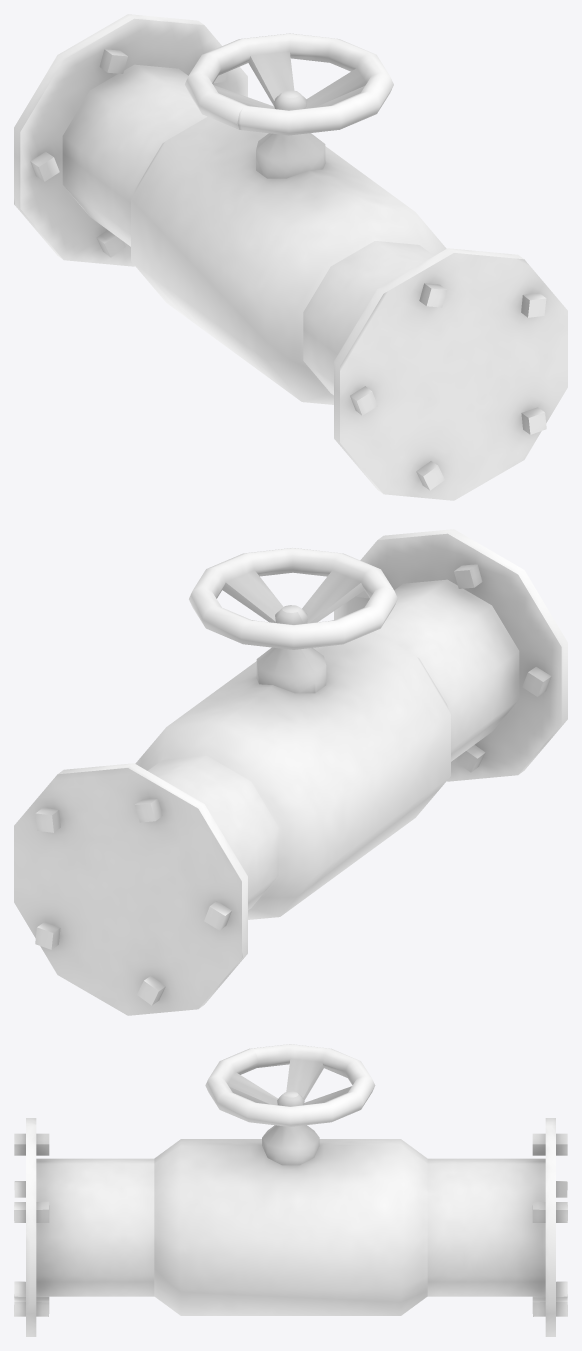
The model's file is PipeValve.glb.
3 renders of one model, top to bottom at view 1: azimuth 30°, elevation 25°; view 2: azimuth 150°, elevation 25°; view 3: azimuth 270°, elevation 25°, orthographic. The views are drawn at different scales.
Visible parts, largest first — view 1: PipeValve; view 2: PipeValve; view 3: PipeValve.
Boxes of the visible parts, x1,y1,x2,y2 form: PipeValve: [14, 14, 567, 500]; PipeValve: [14, 529, 567, 1015]; PipeValve: [14, 1044, 567, 1336].
Bounding box in the file's own units: 0.3965 × 0.5151 × 1.03.
1 material, 1 textured.
